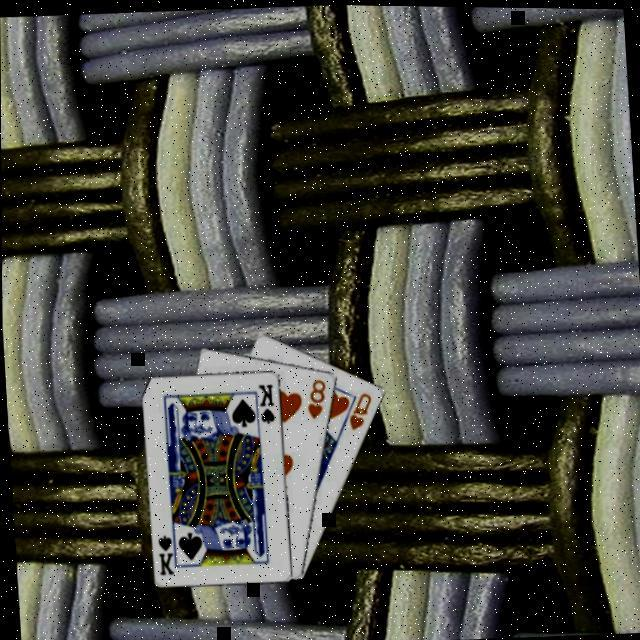8H: (302, 373, 329, 419)
KS: (153, 525, 179, 574), (254, 377, 276, 423)
QH: (343, 386, 374, 430)
